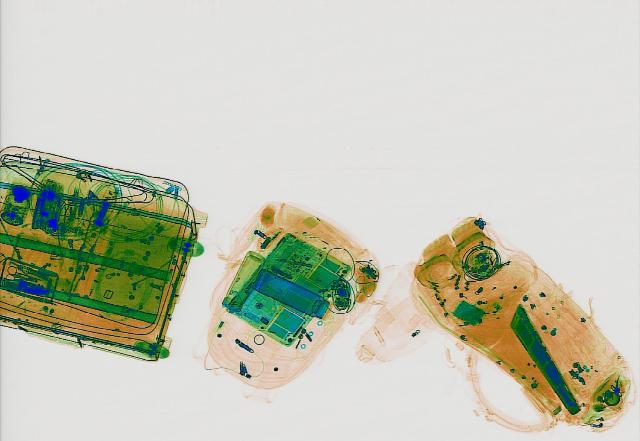Scissors: (1, 263, 44, 285)
